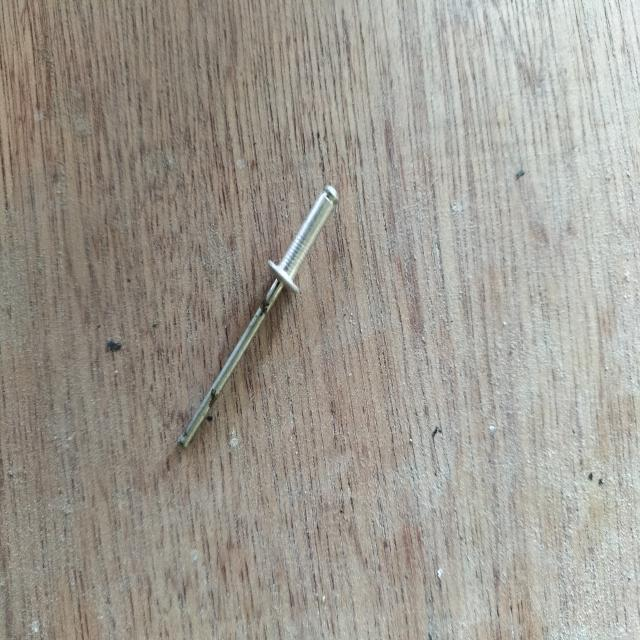rivet: (173, 186, 339, 447)
